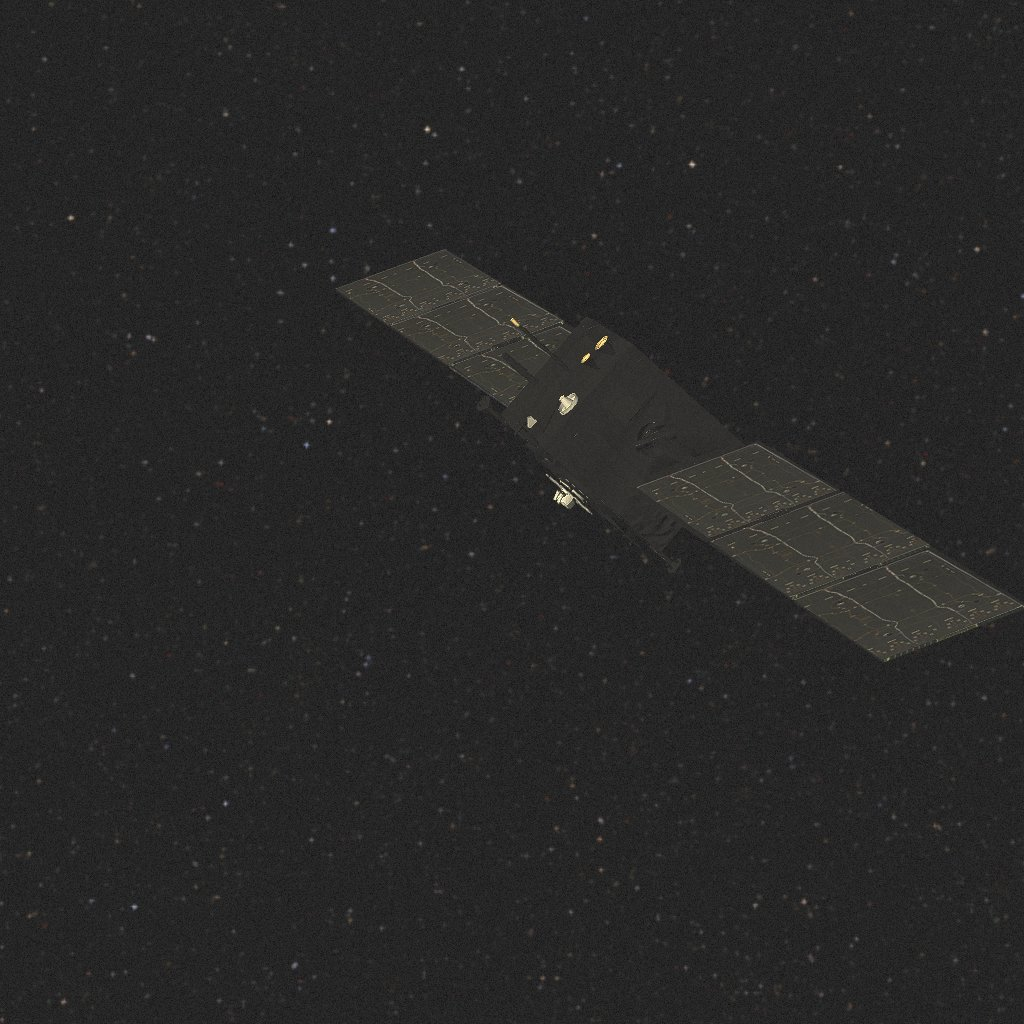smart_1: (336, 249, 1024, 662)
